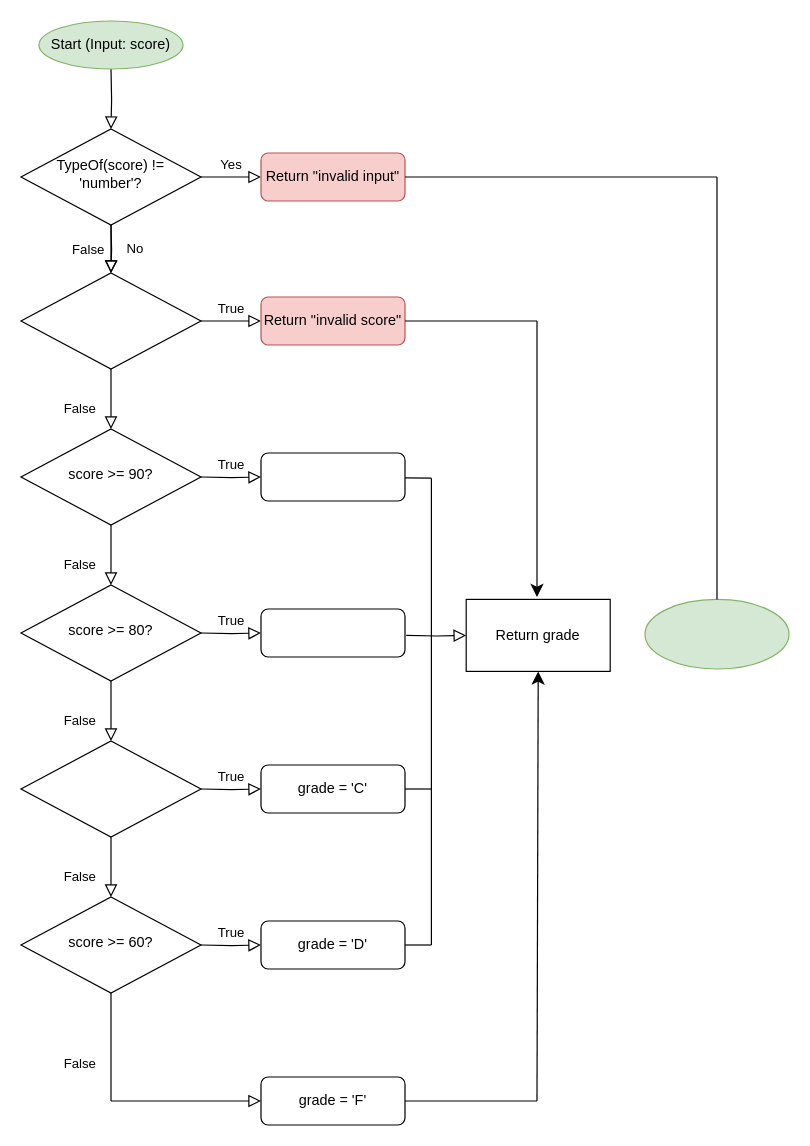
The diagram is 810 pixels wide and 1146 high, and some of its shapes have lost their labels. Here are the shapes that lost their labels. From the top down, the centre of each, then its label:
At (110,320): "score < - II score > 100?".
At (332,476): "grade = 'A'".
At (332,632): "grade = 'B'".
At (716,633): "End".
At (110,788): "score >= 70?".
